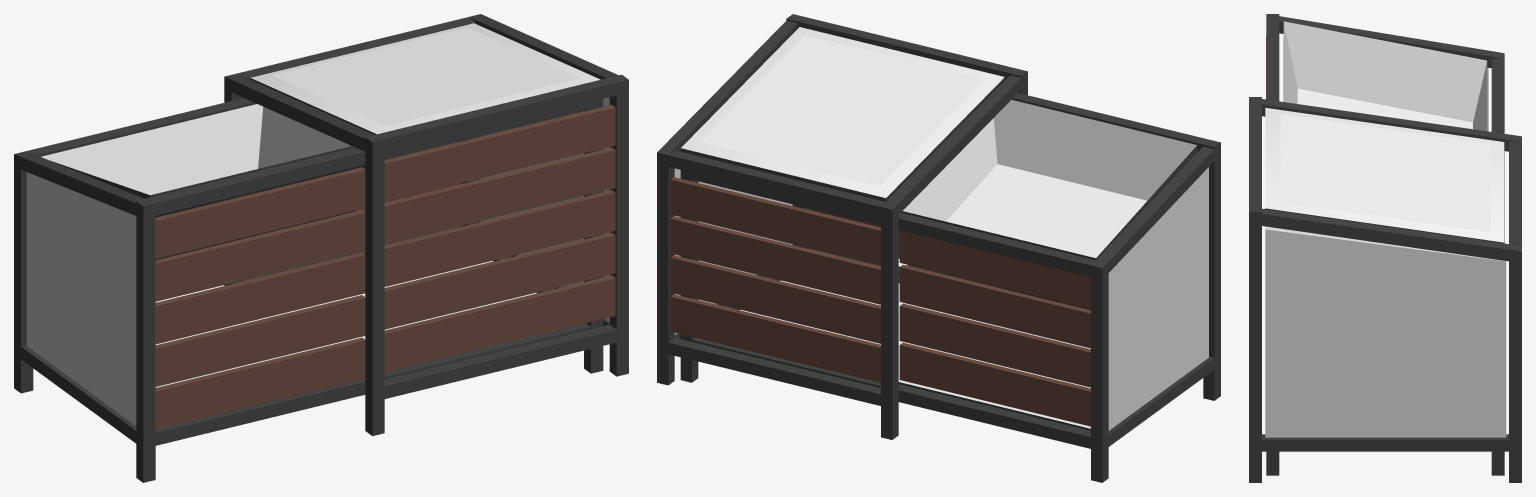
File: veg shelf 1.fbx
3 renders of one model, left to right at view 1: azimuth 30°, elevation 25°; view 2: azimuth 150°, elevation 25°; view 3: azimuth 270°, elevation 25°, orthographic. The views are drawn at different scales.
Visible parts, largest first — view 1: veg shelf, glassShelf1.001, glassShelf1; view 2: veg shelf, glassShelf1.001; view 3: veg shelf, glassShelf1.
Boxes of the visible parts, x1=… form: veg shelf: x1=14, y1=14, x2=628, y2=482; glassShelf1.001: x1=26, y1=172, x2=136, y2=425; glassShelf1: x1=481, y1=97, x2=609, y2=321; veg shelf: x1=657, y1=14, x2=1220, y2=482; glassShelf1.001: x1=1108, y1=167, x2=1208, y2=430; veg shelf: x1=1249, y1=14, x2=1521, y2=482; glassShelf1: x1=1265, y1=226, x2=1506, y2=437.
Bounding box in the file's own units: 1134 × 669 × 611.
